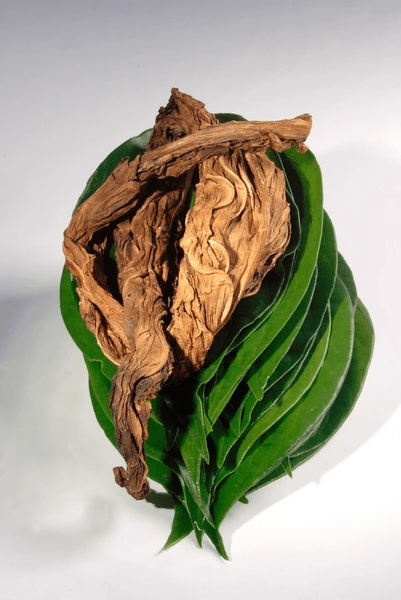bulathwita: (60, 89, 376, 564)
